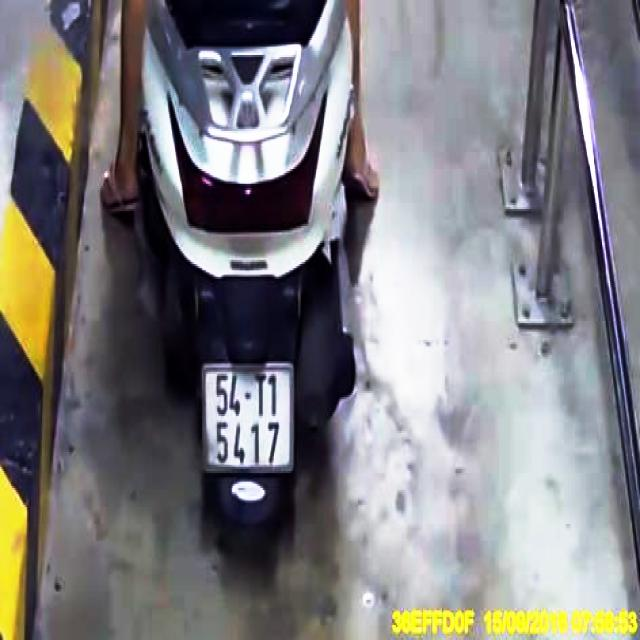license_plate: (204, 363, 294, 471)
